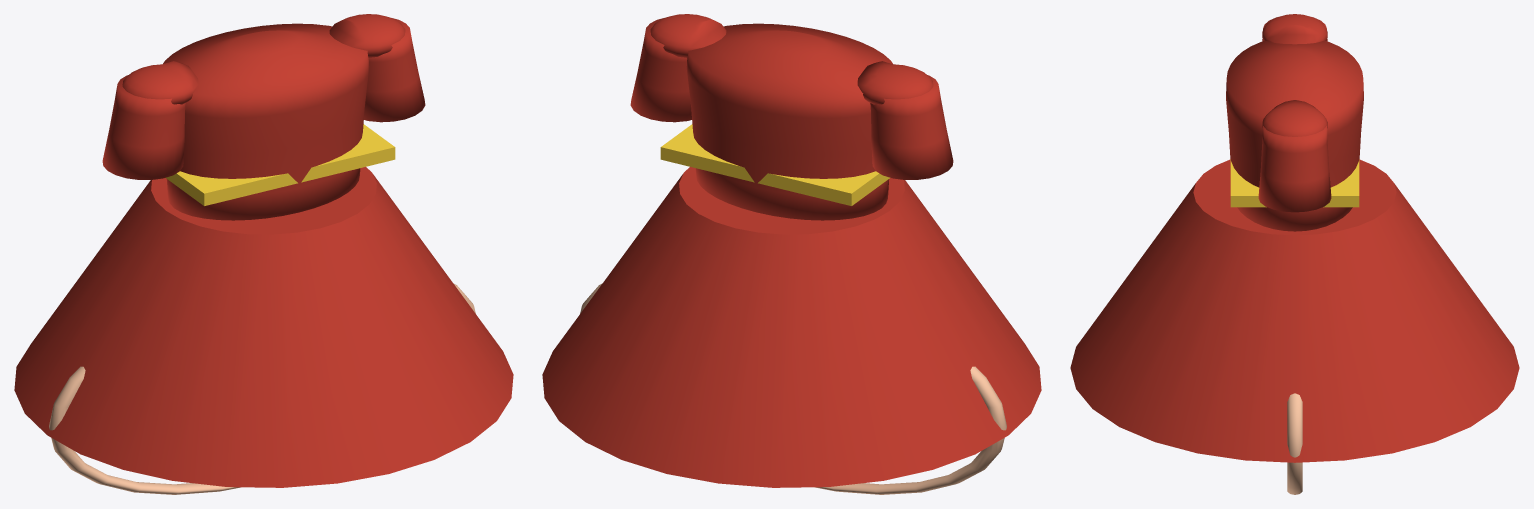
The model's file is suit_ancient_3.glb.
3 renders of one model, left to right at view 1: azimuth 30°, elevation 25°; view 2: azimuth 150°, elevation 25°; view 3: azimuth 270°, elevation 25°, orthographic. The views are drawn at different scales.
Bounding box in the file's own units: 0.9408 × 0.9114 × 0.9408.
